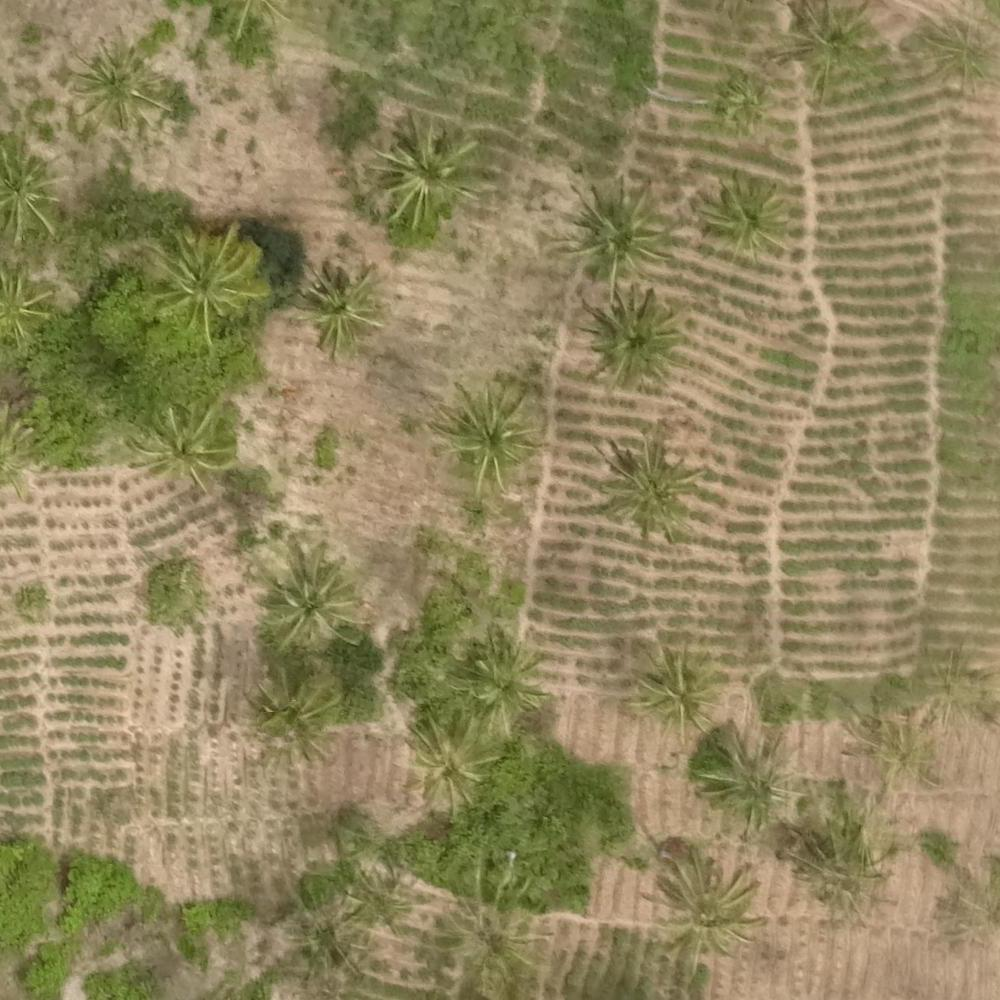Palm: (149, 223, 263, 339), (649, 854, 767, 962), (435, 381, 544, 493), (562, 179, 669, 292), (597, 432, 699, 545), (249, 550, 363, 651), (370, 116, 475, 224), (578, 288, 679, 392), (775, 5, 882, 101), (701, 728, 801, 828), (628, 636, 724, 736), (447, 635, 543, 732), (290, 260, 380, 359), (72, 44, 174, 131), (700, 173, 793, 266), (134, 405, 231, 494), (397, 718, 489, 807), (250, 675, 336, 763), (714, 68, 771, 129)
